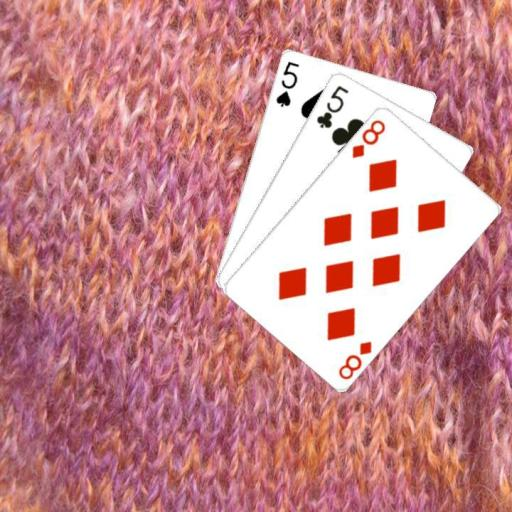5C: (313, 82, 350, 129)
5S: (272, 58, 300, 108)
8D: (348, 115, 387, 160), (335, 337, 373, 381)
